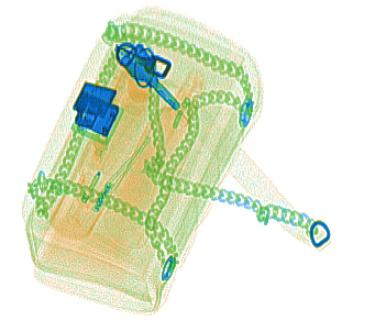plasticBottleWithaNozzle: (45, 69, 169, 240), (101, 70, 209, 250)
